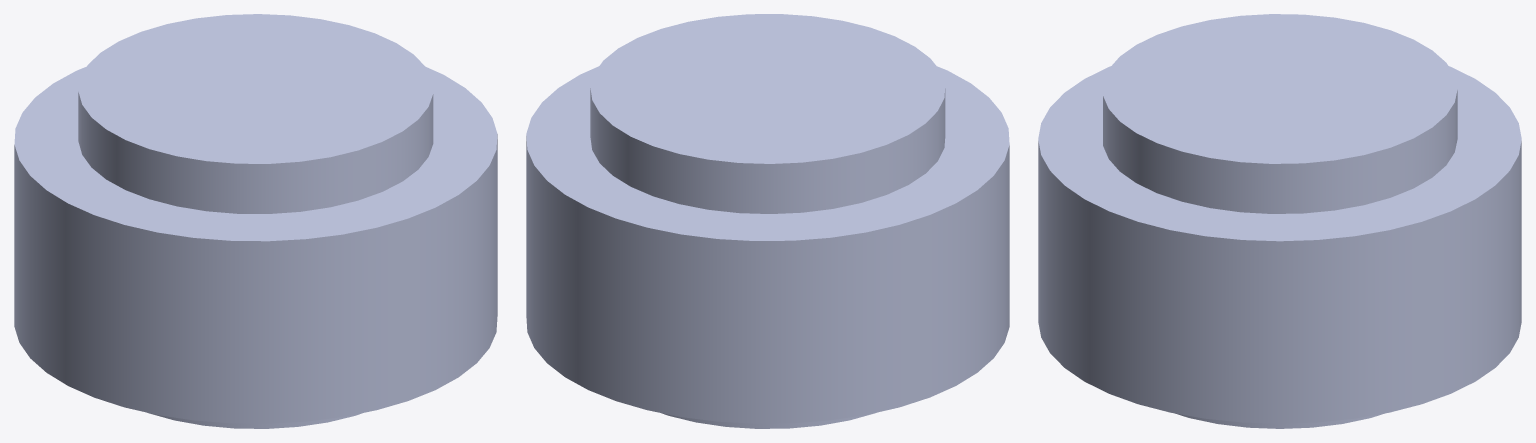
The picture shows the model from 3 angles, left to right: view 1: azimuth 30°, elevation 25°; view 2: azimuth 150°, elevation 25°; view 3: azimuth 270°, elevation 25°; orthographic projection.
Visible parts, largest first — view 1: Body1; view 2: Body1; view 3: Body1.
Part boxes in pixels (bbox=[...]): Body1: bbox=[14, 14, 497, 428]; Body1: bbox=[526, 14, 1009, 428]; Body1: bbox=[1038, 14, 1521, 428].
Size of the model in its own units: 0.098 by 0.0617 by 0.098.
